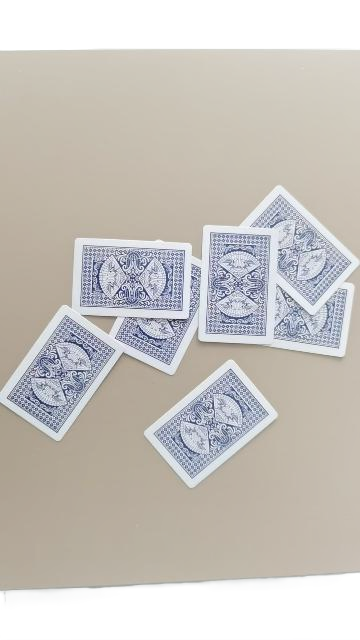card: (145, 360, 278, 488), (0, 305, 124, 441), (241, 185, 359, 315), (110, 258, 201, 375), (72, 239, 191, 319), (199, 225, 278, 344), (270, 282, 354, 358)
